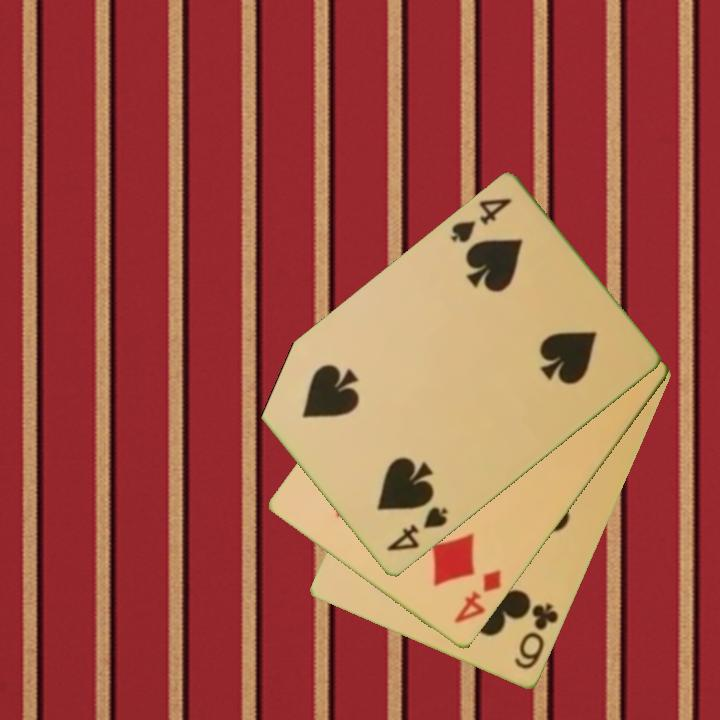4d: (450, 567, 505, 628)
4s: (447, 194, 515, 247), (383, 503, 451, 555)
6c: (510, 600, 562, 673)
